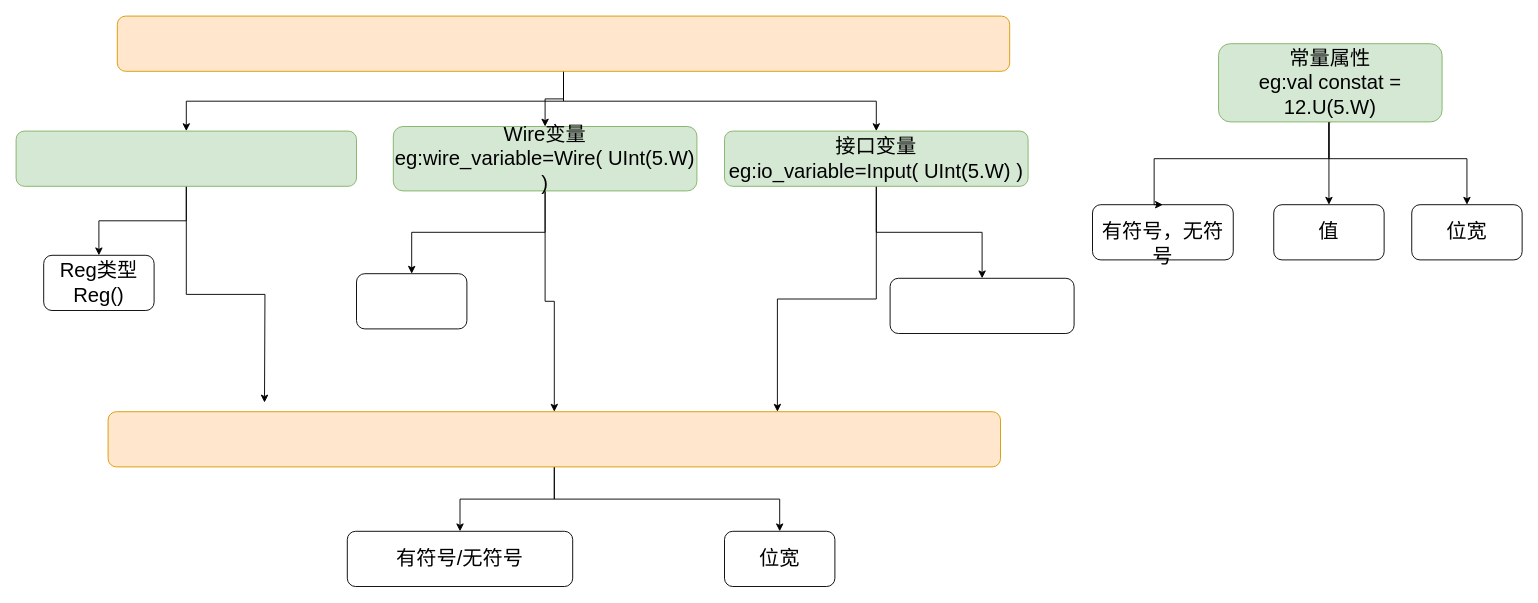
This 1538x603 diagram has some shape labels left out. Each missing label, with the centre of its shape:
"Reg变量 eg:reg_veraible = Reg ( UInt(5.W) )" belongs at point (185, 158).
"Wire类型 Wire()" belongs at point (411, 301).
"变量" belongs at point (563, 43).
"普通变量属性 eg:veriable=UInt(5.W)" belongs at point (553, 439).
"输入输出属性 Input(),Output" belongs at point (981, 305).
